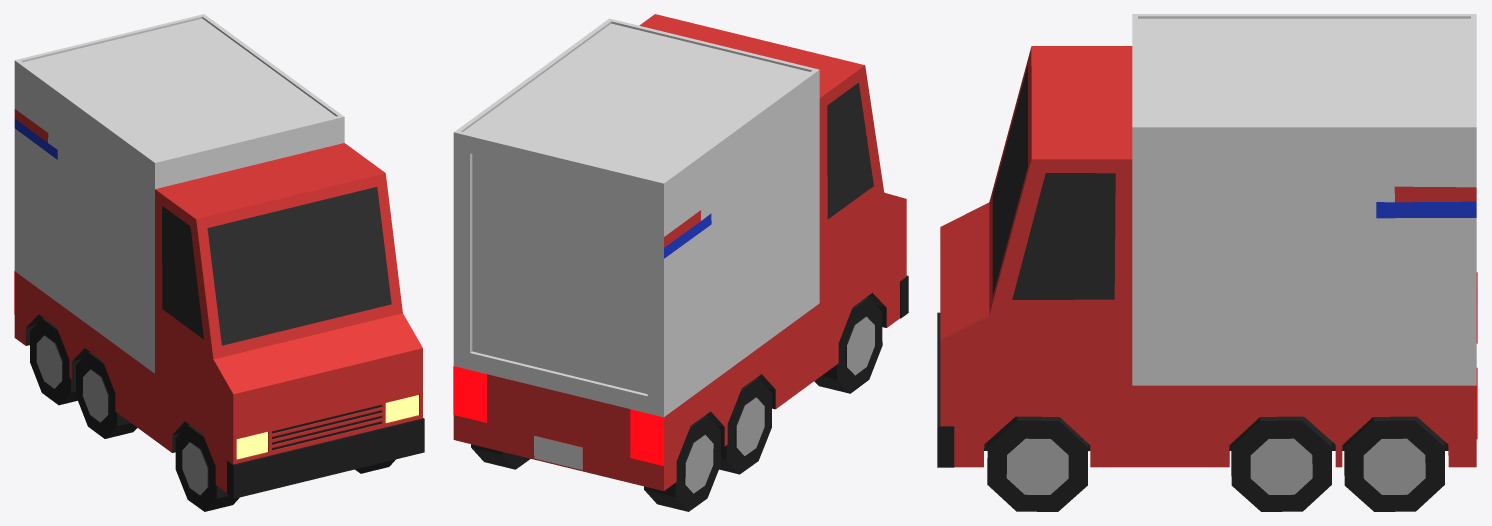
Rendered from Truck.fbx.
3 renders of one model, left to right at view 1: azimuth 30°, elevation 25°; view 2: azimuth 150°, elevation 25°; view 3: azimuth 270°, elevation 25°, orthographic. The views are drawn at different scales.
Visible parts, largest first — view 1: Truck, Front Wheels, Middle Wheels, Back Wheels; view 2: Truck, Back Wheels, Front Wheels, Middle Wheels; view 3: Truck, Front Wheels, Back Wheels, Middle Wheels.
Part boxes in pixels (x1,y1,x2,y2): Truck: (14, 14, 424, 498); Front Wheels: (175, 425, 395, 511); Middle Wheels: (76, 352, 137, 438); Back Wheels: (30, 318, 77, 405); Truck: (453, 14, 908, 490); Back Wheels: (471, 415, 720, 511); Front Wheels: (814, 297, 882, 393); Middle Wheels: (719, 378, 772, 474); Truck: (937, 14, 1477, 467); Front Wheels: (987, 416, 1088, 511); Back Wheels: (1344, 416, 1444, 511); Middle Wheels: (1231, 416, 1331, 511).
Size of the model in its own units: 202 by 318 by 403.
